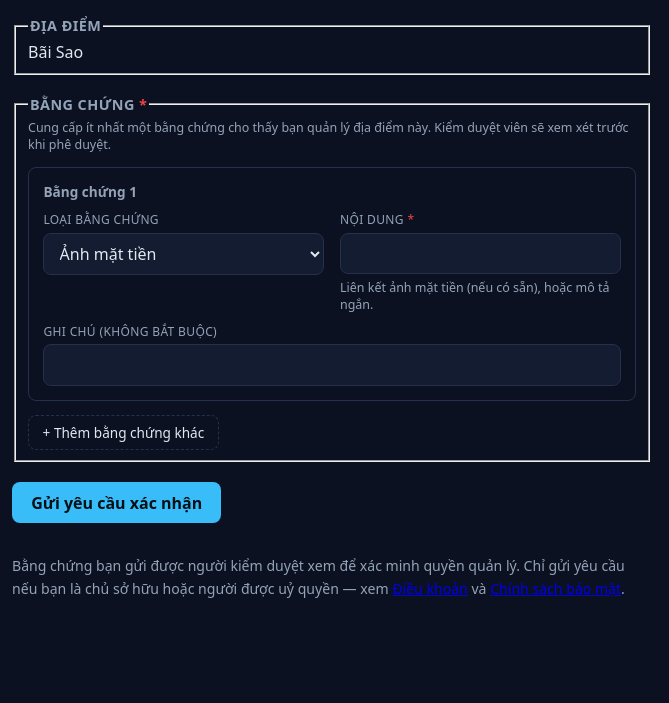
Scenario: ClaimForm — gửi form › backend 404 (place chưa published) → thông báo rõ ràng
Type "x" into the field labelled "Nội dung *".
click(480, 253); type("x")  # box [340,233,621,274]
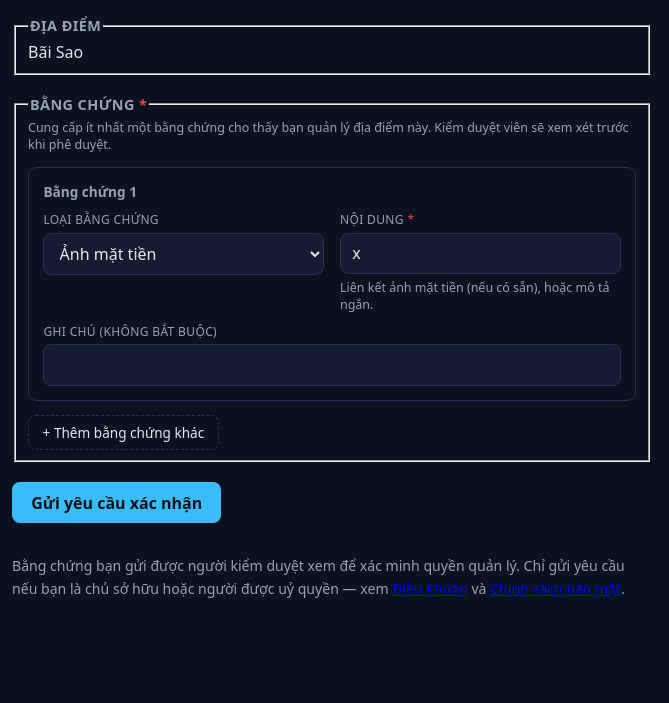
Click the button "Gửi yêu cầu xác nhận".
click(117, 503)  # box [12,482,222,524]
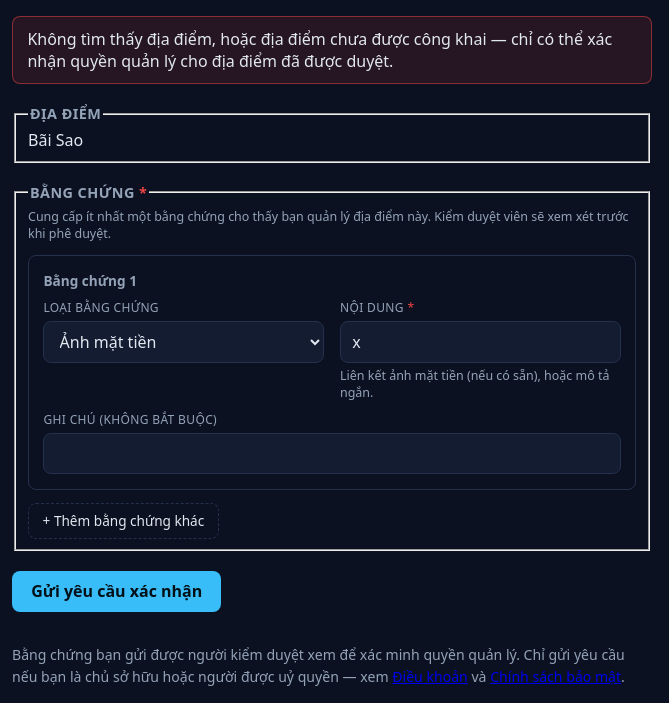
Now the message shows "chưa được công khai", box [27,28,612,72]
